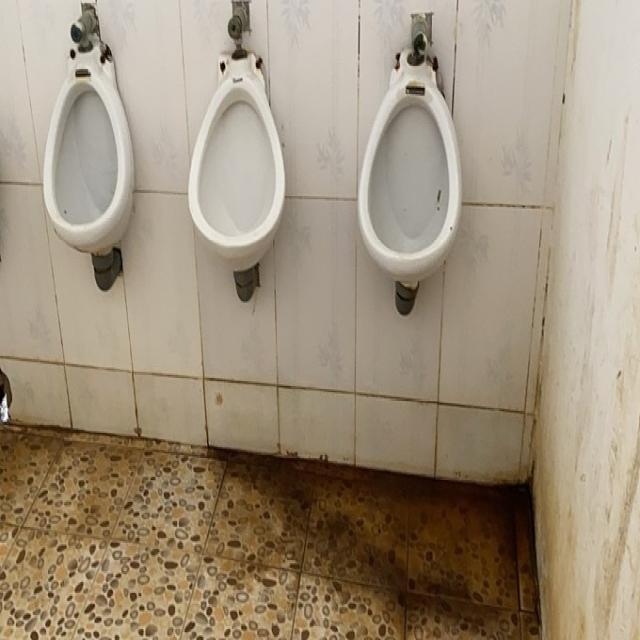dirty_floor: (0, 0, 573, 486), (0, 421, 541, 639)
